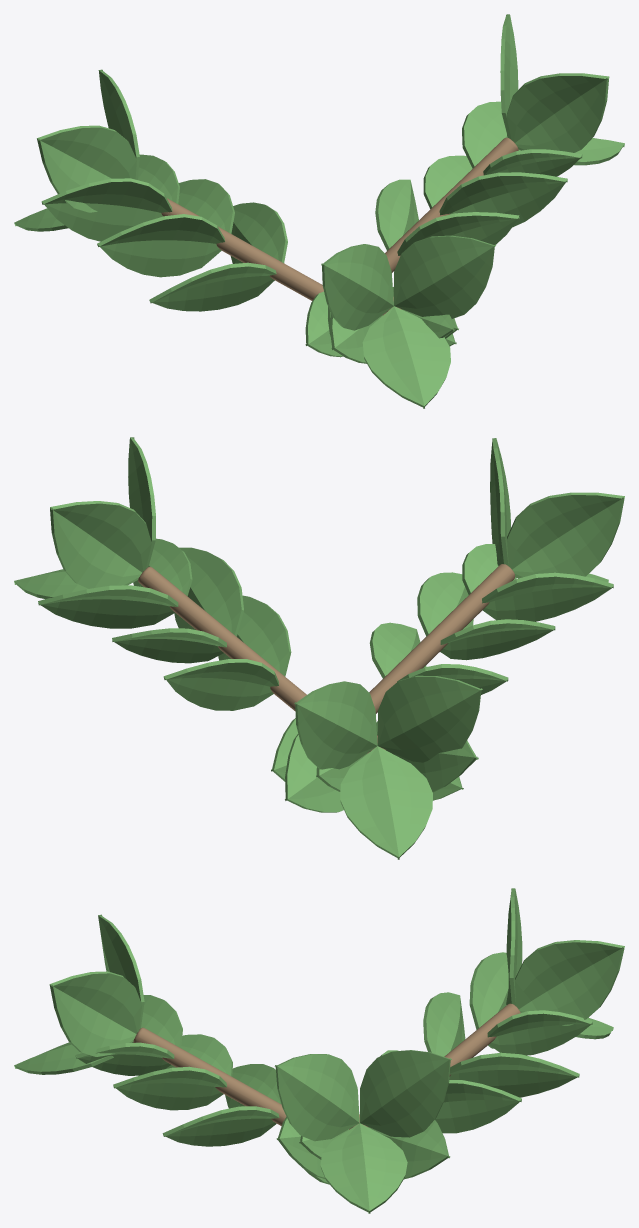
File: bloom_folhas.glb
3 views of the same model, one above another, from view 1: azimuth 30°, elevation 25°; view 2: azimuth 150°, elevation 25°; view 3: azimuth 270°, elevation 25° (orthographic). The views are drawn at different scales.
Parts seen in each view (by area): view 1: buganvilia; view 2: buganvilia; view 3: buganvilia.
Boxes of the visible parts, x1,y1,x2,y2 form: buganvilia: [14, 14, 624, 408]; buganvilia: [14, 437, 624, 859]; buganvilia: [14, 888, 624, 1213].
Size of the model in its own units: 0.3681 by 0.1458 by 0.3841.
